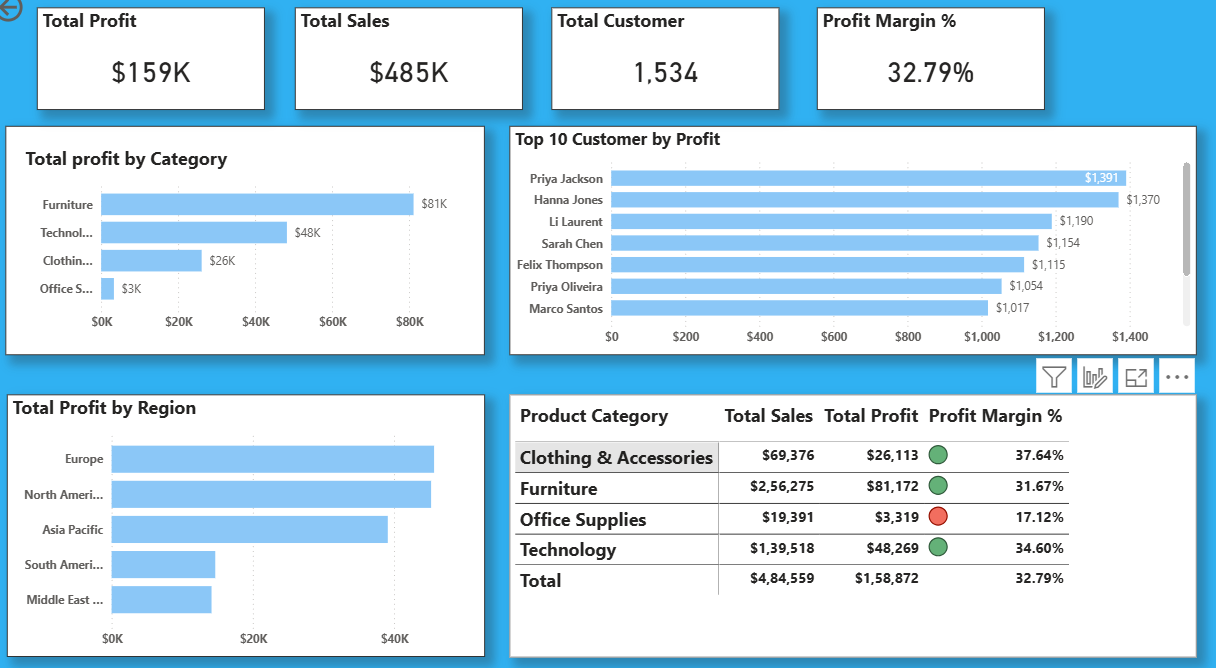

The page's visual inventory and layout, read from the dashboard file:
{"tool":"powerbi","page":{"name":"Customer & Profit Analysis","canvas":[1280,720],"ordinal":1},"visuals":[{"type":"actionButton","box":[0,0,100,40],"z":0},{"type":"barChart","title":"Total profit by Category","fields":{"Category":["DIM_Product.Product_Category"],"Y":["Measure.Total_profit"]},"box":[17.5,143.2,499.5,238.6],"z":1000},{"type":"clusteredBarChart","title":"Top 10 Customer by Profit","fields":{"Category":["DIM_Customer.Customer_Name"],"Y":["Measure.Total_profit"]},"box":[542.4,143.2,715.8,238.6],"z":2000},{"type":"card","title":"Total Profit","fields":{"Values":["Measure.Total_profit"]},"box":[49.3,20.7,237,106.6],"z":3000},{"type":"card","title":"Total Sales","fields":{"Values":["Measure.Total_sales"]},"box":[318.1,20.7,237,106.6],"z":4000},{"type":"card","title":"Total Customer","fields":{"Values":["Measure.Total_customer"]},"box":[585.3,20.7,237,106.6],"z":5000},{"type":"card","title":"Profit Margin %","fields":{"Values":["Measure.Profit Margin %"]},"box":[862.1,20.7,237,106.6],"z":6000},{"type":"clusteredBarChart","title":"Total Profit by Region","fields":{"Category":["DIM_Geography.Region"],"Y":["Measure.Total_profit"]},"box":[19.1,423.1,497.9,273.6],"z":7000},{"type":"pivotTable","fields":{"Rows":["DIM_Product.Product_Category"],"Values":["Measure.Total_sales","Measure.Total_profit","Measure.Profit Margin %"]},"box":[542,423,716,274],"z":7001}]}

Visuals, with their boxes in screenshot pixels (x1, y1, x2, y2), scaled from the page's 1280x720 canvas onto the 1216x668 screenshot:
actionButton: pyautogui.locateOnScreen(0, 0, 95, 37)
"Total profit by Category" barChart: pyautogui.locateOnScreen(17, 133, 491, 354)
"Top 10 Customer by Profit" clusteredBarChart: pyautogui.locateOnScreen(515, 133, 1195, 354)
"Total Profit" card: pyautogui.locateOnScreen(47, 19, 272, 118)
"Total Sales" card: pyautogui.locateOnScreen(302, 19, 527, 118)
"Total Customer" card: pyautogui.locateOnScreen(556, 19, 781, 118)
"Profit Margin %" card: pyautogui.locateOnScreen(819, 19, 1044, 118)
"Total Profit by Region" clusteredBarChart: pyautogui.locateOnScreen(18, 393, 491, 646)
pivotTable - DIM_Product.Product_Category x Measure.Total_sales: pyautogui.locateOnScreen(515, 392, 1195, 647)
